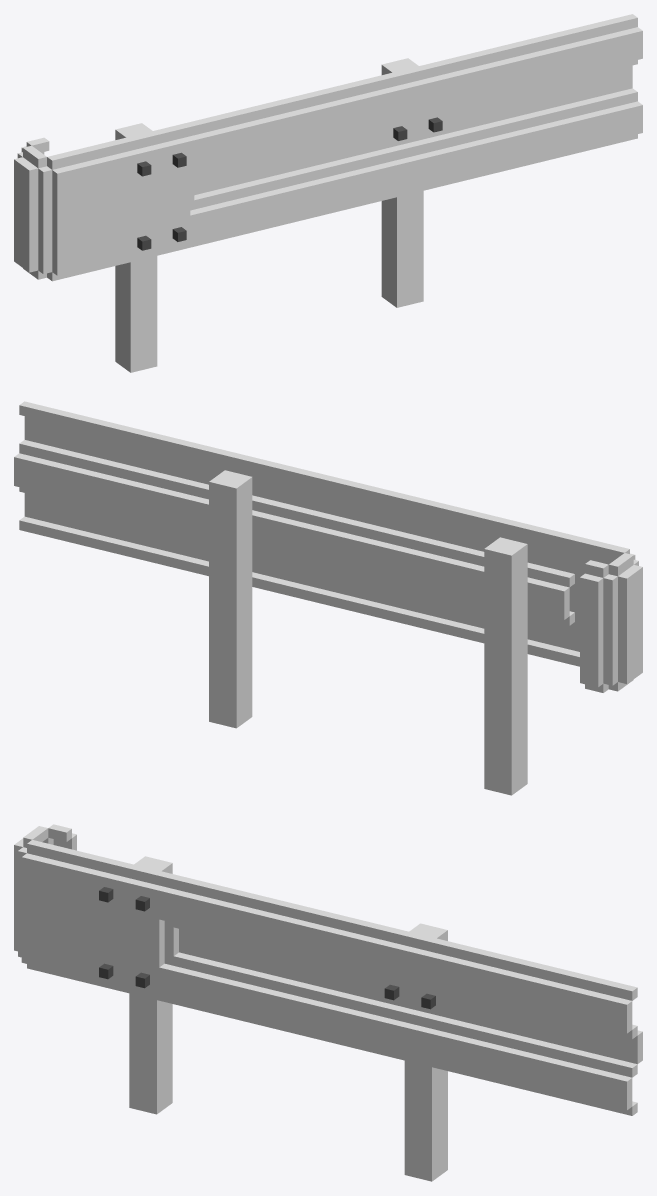
File: guardrail1.fbx
The picture shows the model from 3 angles, top to bottom: view 1: azimuth 30°, elevation 25°; view 2: azimuth 150°, elevation 25°; view 3: azimuth 330°, elevation 25°; orthographic projection. The views are drawn at different scales.
Visible parts, largest first — view 1: guardrail1; view 2: guardrail1; view 3: guardrail1.
Part boxes in pixels (x1,y1,x2,y2): guardrail1: (14,14,642,372); guardrail1: (14,401,642,795); guardrail1: (14,824,642,1181).
Size of the model in its own units: 6800 by 2600 by 800.
Materials: 1 (1 with a texture image).
